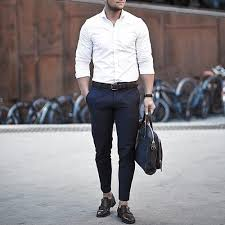F_belt: (90, 77, 140, 93)
F_dress pants: (84, 88, 140, 206)
